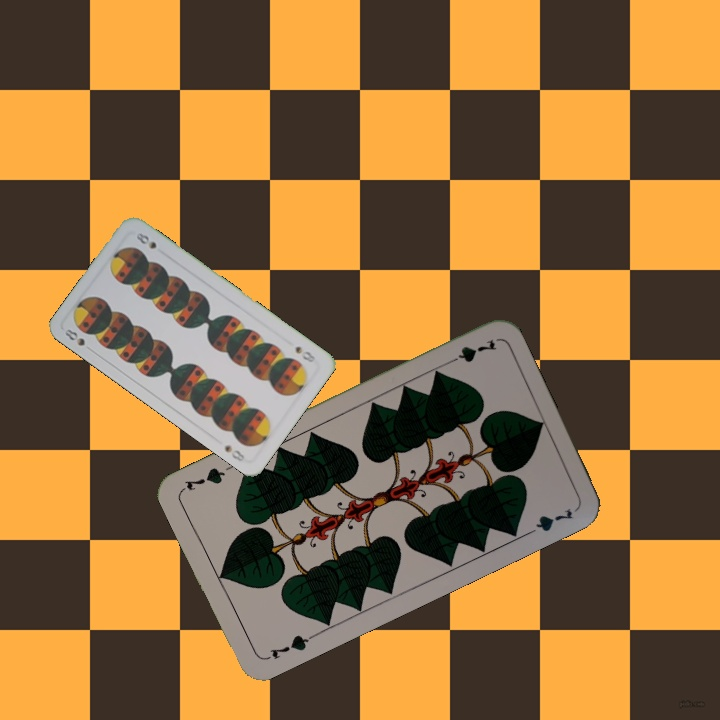G7: (442, 335, 499, 368), (261, 630, 317, 663)
S8: (61, 325, 96, 355), (291, 342, 318, 365)
